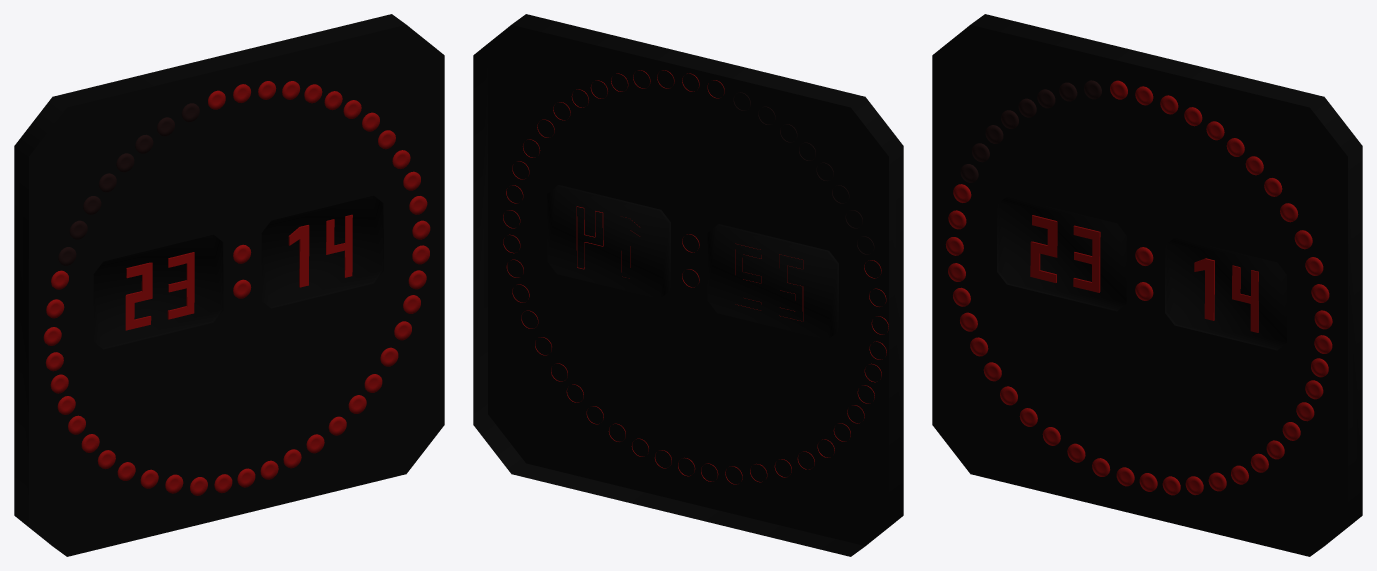
Rendered from horloge electronique.FBX.
3 renders of one model, left to right at view 1: azimuth 30°, elevation 25°; view 2: azimuth 150°, elevation 25°; view 3: azimuth 330°, elevation 25°, orthographic.
Visible parts, largest first — view 1: horloge; view 2: horloge; view 3: horloge.
Boxes of the visible parts, left/top/right/bottom form: horloge: left=14, top=14, right=444, bottom=556; horloge: left=473, top=14, right=903, bottom=556; horloge: left=932, top=14, right=1362, bottom=556.
Bounding box in the file's own units: 5.84 × 6.03 × 0.3839.
